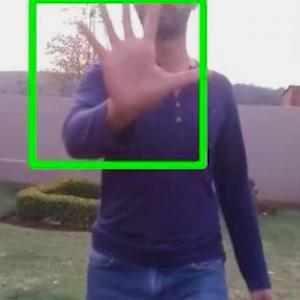follow_hand: (72, 0, 213, 122)
